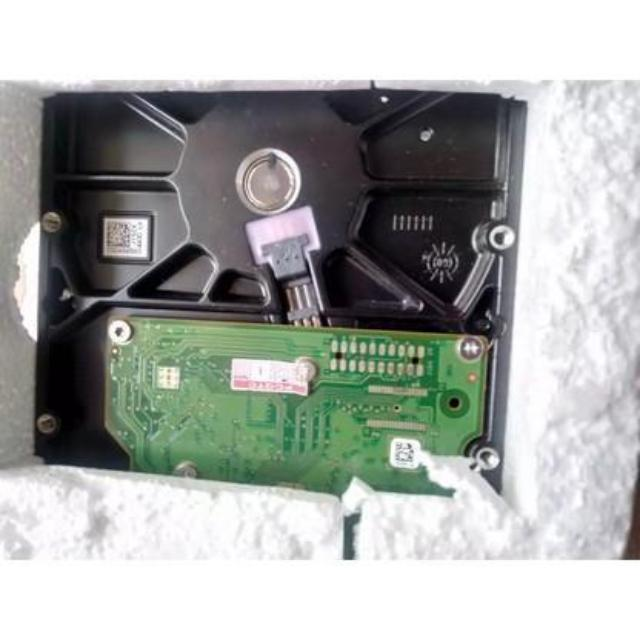DISK: (36, 86, 514, 500)
